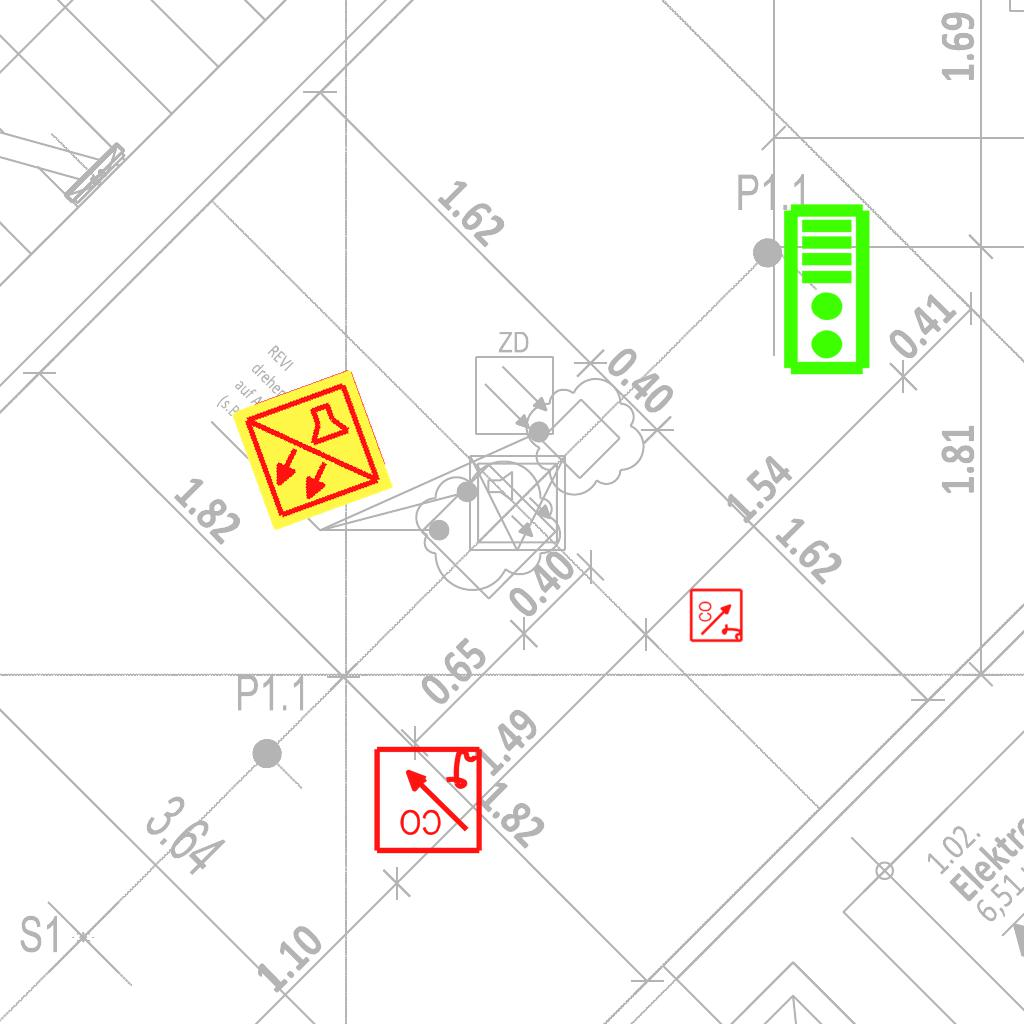Gegensprechanlage_mit_Video: (781, 202, 876, 378)
OKW_Multisensormelder_(Kombination_optischer_Rauch-Kahlenmonoxid_Waerme-Melder): (227, 365, 397, 535)
ROA_Rauchmelder_optisch_mit_Signalgeber_(Sockelsirene): (371, 742, 484, 855), (689, 587, 745, 643)
